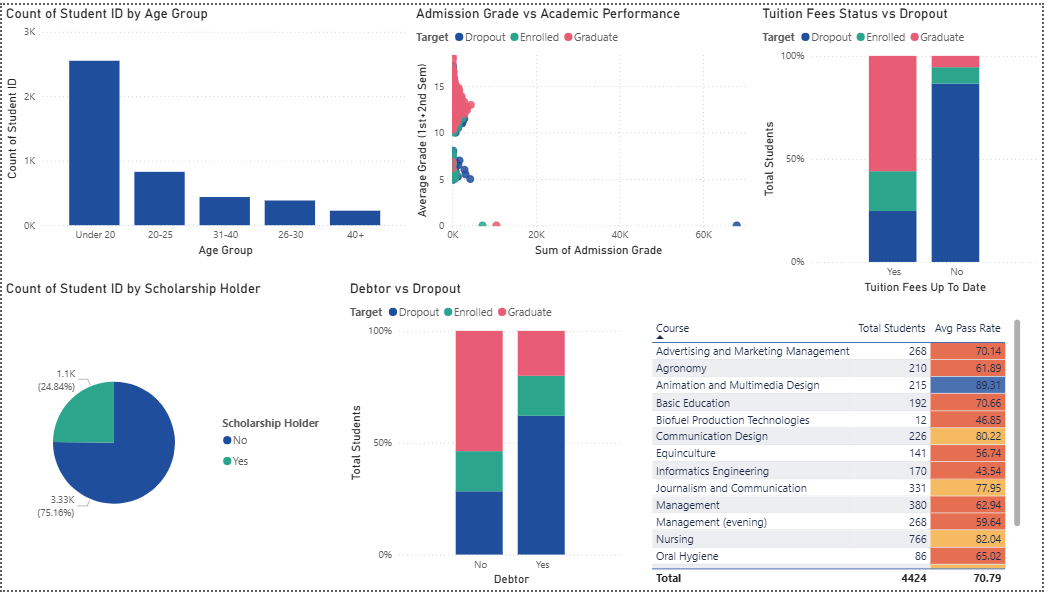

What the dashboard file says about the page in this screenshot:
{"tool":"powerbi","page":{"name":"Demographics and performance","canvas":[1280,720],"ordinal":1},"visuals":[{"type":"columnChart","fields":{"Category":["Student Data.Age Group"],"Y":["CountNonNull(Student Data.Student ID)"]},"box":[0,0,505,315],"z":0},{"type":"pieChart","fields":{"Category":["Student Data.Scholarship Holder"],"Y":["CountNonNull(Student Data.Student ID)"]},"box":[0,338.3,400,381.7],"z":1},{"type":"scatterChart","title":"Admission Grade vs Academic Performance","fields":{"X":["Sum(Student Data.Admission Grade)"],"Y":["Student Data.Average Grade (1st+2nd Sem)"],"Series":["Student Data.Target"]},"box":[505,0,425,315],"z":2},{"type":"hundredPercentStackedColumnChart","title":"Debtor vs Dropout","fields":{"Category":["Student Data.Debtor"],"Series":["Student Data.Target"],"Y":["Student Data.Total Students"]},"box":[423.3,338.3,346.7,381.7],"z":3},{"type":"hundredPercentStackedColumnChart","title":" Tuition Fees Status vs Dropout","fields":{"Category":["Student Data.Tuition Fees Up To Date"],"Series":["Student Data.Target"],"Y":["Student Data.Total Students"]},"box":[930,0,350,360],"z":4},{"type":"tableEx","fields":{"Values":["Student Data.Course","Student Data.Total Students","Student Data.Avg Pass Rate"]},"box":[793.3,381.7,465,338.3],"z":5}]}

Visuals, with their boxes in screenshot pixels (x1, y1, x2, y2), scaled from the page's 1280x720 canvas onto the 1050x601 screenshot:
columnChart - Student Data.Age Group x CountNonNull(Student Data.Student ID): [x1=0, y1=0, x2=414, y2=263]
pieChart - Student Data.Scholarship Holder x CountNonNull(Student Data.Student ID): [x1=0, y1=282, x2=328, y2=600]
"Admission Grade vs Academic Performance" scatterChart: [x1=414, y1=0, x2=763, y2=263]
"Debtor vs Dropout" hundredPercentStackedColumnChart: [x1=347, y1=282, x2=632, y2=600]
" Tuition Fees Status vs Dropout" hundredPercentStackedColumnChart: [x1=763, y1=0, x2=1049, y2=300]
tableEx - Student Data.Course x Student Data.Total Students: [x1=651, y1=319, x2=1032, y2=600]
